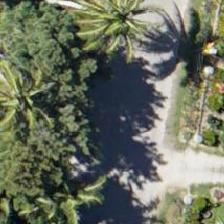coconut_tree: (0, 56, 61, 146), (69, 0, 159, 58)
